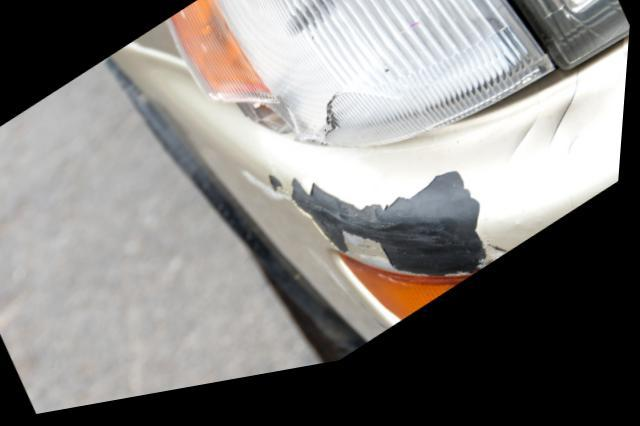lamp broken: (166, 0, 564, 162)
scratch: (245, 178, 513, 297)
